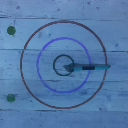Axe Tip: (63, 65, 76, 67)
